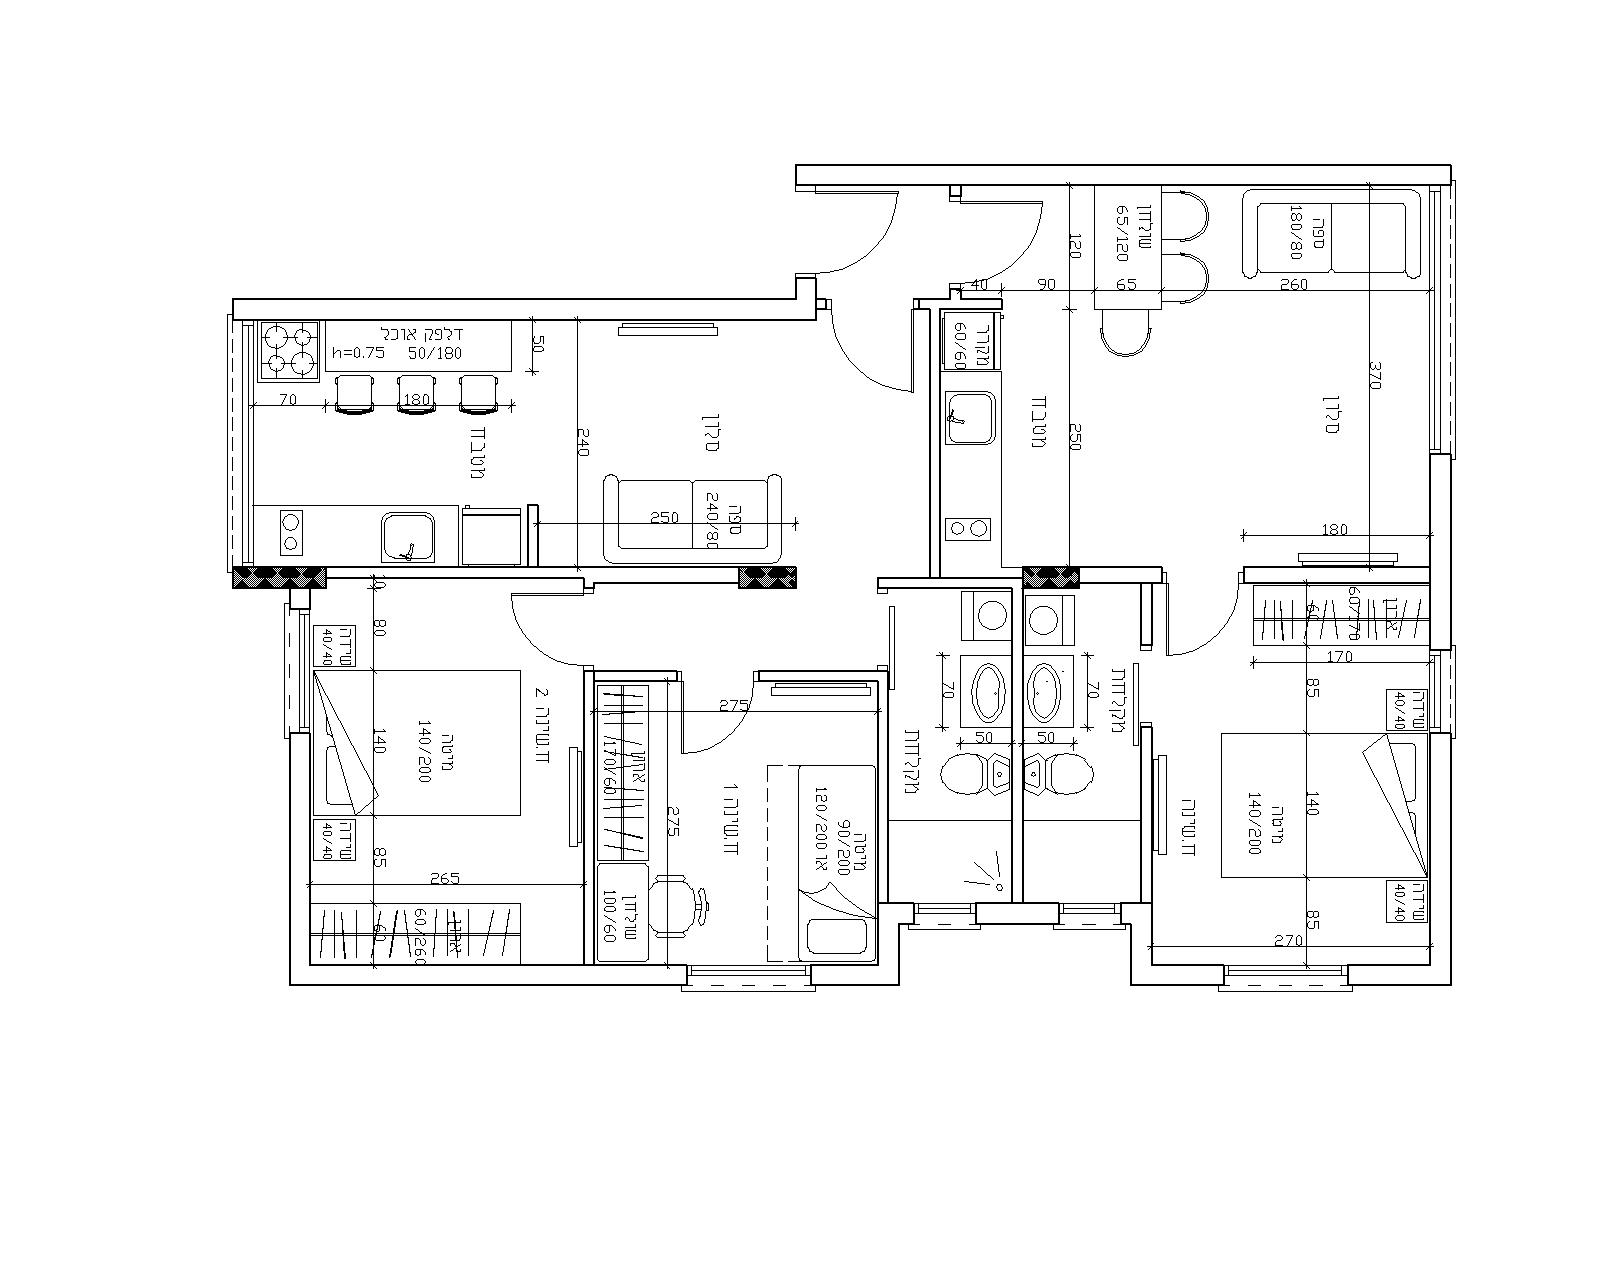door: (825, 317, 923, 408), (1162, 592, 1243, 678), (825, 188, 899, 280), (970, 193, 1046, 281), (503, 585, 579, 669), (677, 714, 750, 758)
window: (217, 317, 259, 567), (1428, 183, 1462, 456), (273, 607, 315, 737), (686, 961, 814, 1002), (1223, 956, 1348, 994), (1424, 649, 1465, 733), (914, 896, 977, 936), (1057, 896, 1122, 934)
